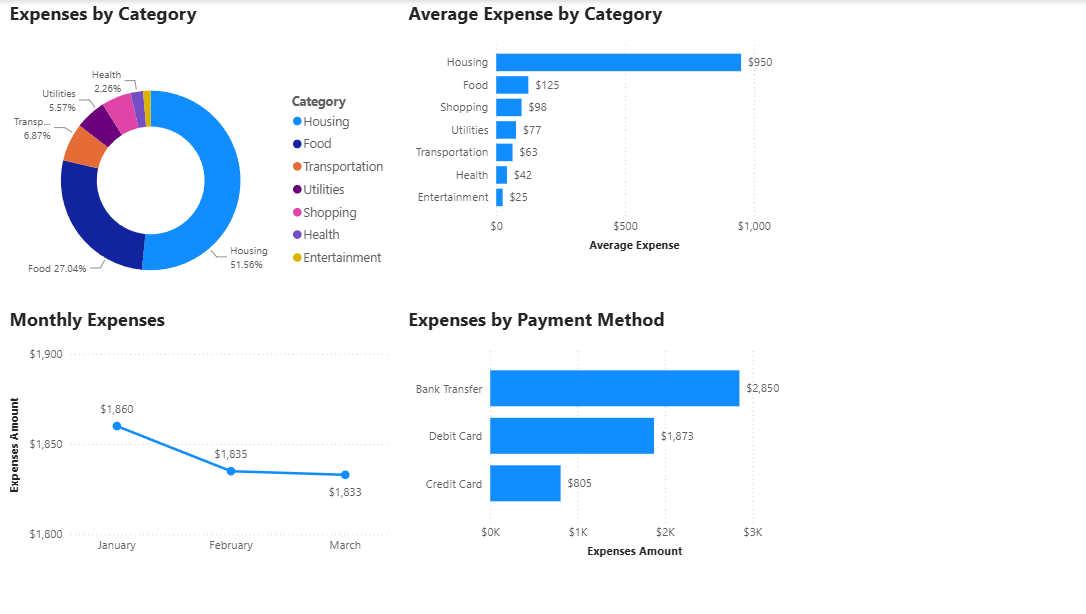

Layout of this report page (visuals, bound fields, positions):
{"tool":"powerbi","page":{"name":"Spending Analysis","canvas":[1280,720],"ordinal":1},"visuals":[{"type":"donutChart","title":"Expenses by Category","fields":{"Y":["tblTransactions.Total Expenses"],"Category":["tblTransactions.Category"]},"box":[9.7,0,457.7,383.6],"z":0},{"type":"lineChart","title":"Monthly Expenses","fields":{"Category":["tblTransactions.Month"],"Y":["tblTransactions.Total Expenses"]},"box":[9.7,359.4,457,300],"z":1000},{"type":"clusteredBarChart","fields":{"Category":["tblTransactions.Category"],"Y":["tblTransactions.Average Expense"]},"box":[476.7,0,457,300],"z":2000},{"type":"clusteredBarChart","title":"Expenses by Payment Method","fields":{"Category":["tblTransactions.Payment Method"],"Y":["tblTransactions.Total Expenses"]},"box":[477,359,457,300],"z":3000}]}

Visuals, with their boxes in screenshot pixels (x1, y1, x2, y2), scaled from the page's 1280x720 canvas onto the 1086x614 screenshot:
"Expenses by Category" donutChart: crop(8, 0, 397, 327)
"Monthly Expenses" lineChart: crop(8, 306, 396, 562)
clusteredBarChart - tblTransactions.Category x tblTransactions.Average Expense: crop(404, 0, 792, 256)
"Expenses by Payment Method" clusteredBarChart: crop(405, 306, 792, 562)
